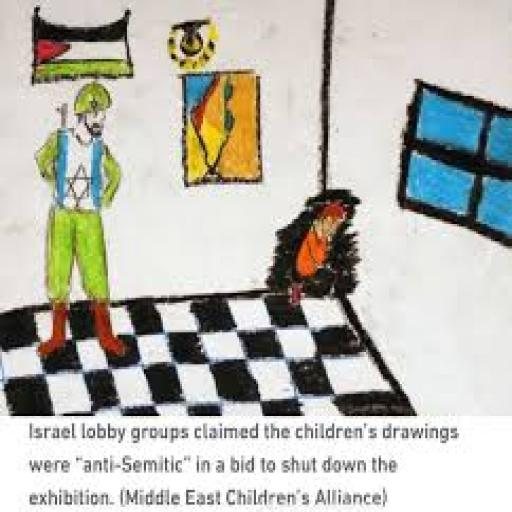person: (33, 80, 136, 361), (262, 189, 370, 304)
